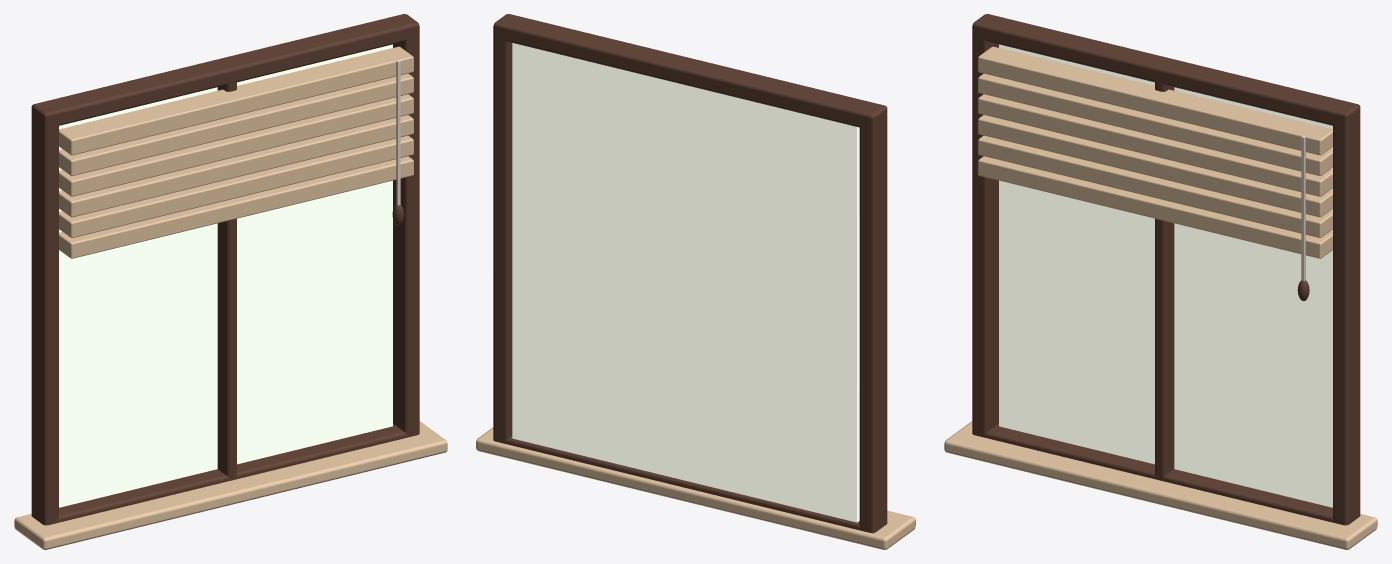
The model's file is suite_window_living.glb.
3 views of the same model, side by side, from view 1: azimuth 30°, elevation 25°; view 2: azimuth 150°, elevation 25°; view 3: azimuth 330°, elevation 25° (orthographic).
Bounding box in the file's own units: 2.36 × 2.36 × 0.31.
